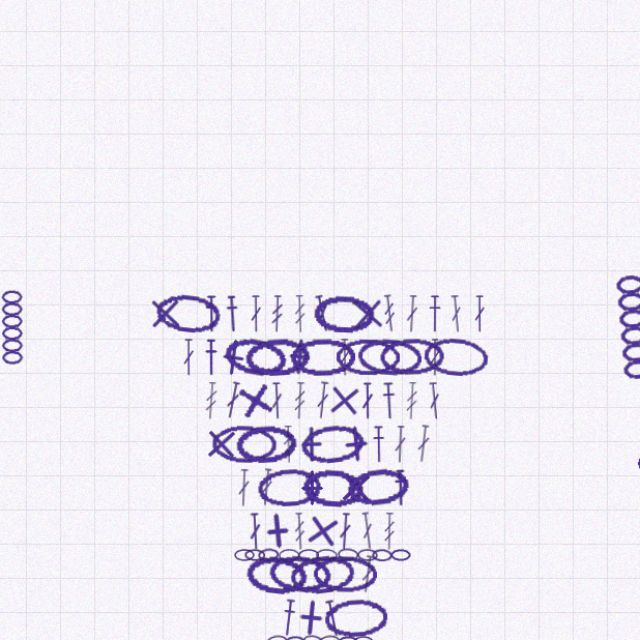chain: (222, 325, 288, 371), (286, 536, 353, 579), (157, 284, 223, 327), (341, 452, 406, 495), (297, 410, 362, 453), (416, 327, 481, 368), (244, 537, 307, 579), (266, 537, 330, 578), (352, 328, 416, 368), (299, 454, 361, 494), (320, 580, 383, 619), (244, 328, 307, 367), (256, 454, 318, 493), (235, 412, 296, 451), (212, 413, 275, 450), (288, 329, 351, 366), (374, 329, 437, 366), (310, 287, 371, 325), (310, 539, 372, 576), (332, 330, 394, 366), (300, 615, 321, 630), (265, 616, 286, 629), (316, 616, 336, 629), (257, 532, 277, 545), (334, 532, 354, 545), (313, 533, 334, 545), (283, 617, 303, 629), (334, 617, 354, 629), (349, 617, 369, 629), (234, 533, 254, 545), (244, 533, 264, 545), (277, 533, 297, 545), (296, 533, 316, 545), (353, 533, 373, 545), (367, 533, 387, 545), (385, 533, 405, 545)
double: (310, 287, 329, 324), (224, 371, 242, 408), (355, 539, 371, 576), (355, 497, 371, 534), (409, 413, 425, 450), (258, 455, 273, 492), (312, 371, 327, 408), (420, 372, 435, 408), (441, 288, 456, 324), (334, 498, 348, 534), (399, 288, 413, 324), (248, 498, 261, 534), (237, 456, 250, 492), (388, 414, 401, 450), (269, 372, 282, 408), (357, 372, 369, 408), (184, 330, 196, 366), (335, 330, 347, 366), (422, 330, 434, 366), (249, 288, 261, 324), (465, 288, 477, 324)
enseble_chain: (600, 267, 640, 372), (8, 283, 31, 356)
half_double: (319, 581, 340, 619), (278, 581, 296, 618), (376, 372, 391, 408), (225, 288, 240, 324), (205, 330, 219, 366), (205, 288, 219, 324), (421, 288, 435, 324), (388, 456, 401, 492), (367, 414, 380, 450)
noise: (622, 441, 640, 459)
single: (233, 368, 276, 411), (299, 495, 340, 536), (213, 328, 253, 368), (289, 580, 328, 619), (256, 496, 295, 535), (332, 412, 371, 451), (321, 370, 360, 409), (278, 328, 317, 367), (344, 287, 382, 325), (333, 455, 370, 492), (203, 413, 240, 450), (149, 287, 186, 324), (291, 456, 327, 492), (291, 414, 327, 450)
treble: (376, 287, 392, 324), (205, 372, 219, 408), (291, 498, 304, 534), (280, 414, 293, 450), (291, 372, 304, 408), (399, 372, 412, 408), (269, 288, 282, 324), (291, 288, 304, 324), (378, 498, 390, 534)
